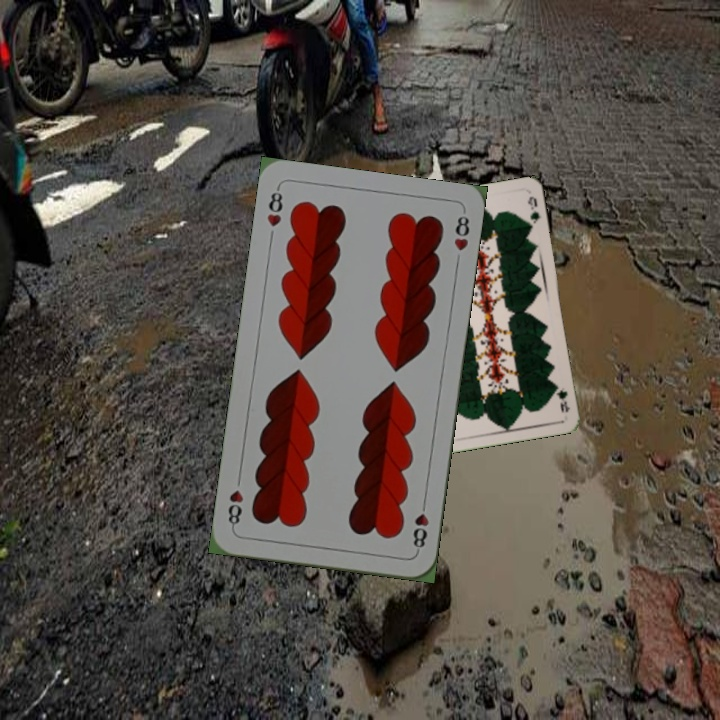G9: (554, 385, 572, 415)
H8: (409, 496, 431, 555), (263, 183, 285, 229)
